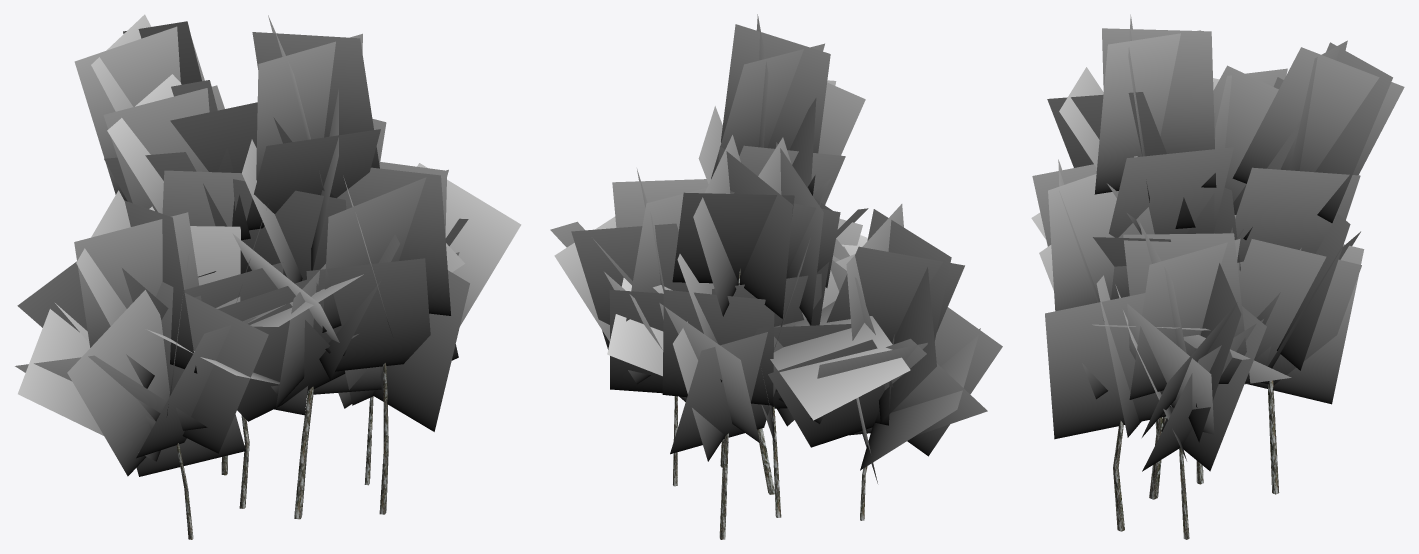
Rendered from tree16B.fbx.
3 renders of one model, left to right at view 1: azimuth 30°, elevation 25°; view 2: azimuth 150°, elevation 25°; view 3: azimuth 270°, elevation 25°, orthographic. The views are drawn at different scales.
Visible parts, largest first — view 1: tree16B_leafs, tree16B_leafs_flip, tree16B_trunk; view 2: tree16B_leafs, tree16B_leafs_flip, tree16B_trunk; view 3: tree16B_leafs, tree16B_leafs_flip, tree16B_trunk.
Part boxes in pixels (x1=…): tree16B_leafs: x1=15, y1=14, x2=521, y2=476; tree16B_leafs_flip: x1=17, y1=16, x2=520, y2=476; tree16B_trunk: x1=176, y1=363, x2=388, y2=539; tree16B_leafs: x1=550, y1=14, x2=1002, y2=483; tree16B_leafs_flip: x1=551, y1=19, x2=1001, y2=469; tree16B_trunk: x1=673, y1=269, x2=867, y2=539; tree16B_leafs: x1=1031, y1=14, x2=1404, y2=471; tree16B_leafs_flip: x1=1033, y1=28, x2=1403, y2=458; tree16B_trunk: x1=1113, y1=380, x2=1279, y2=539.
Size of the model in its own units: 6.17 by 5.9 by 4.23.
